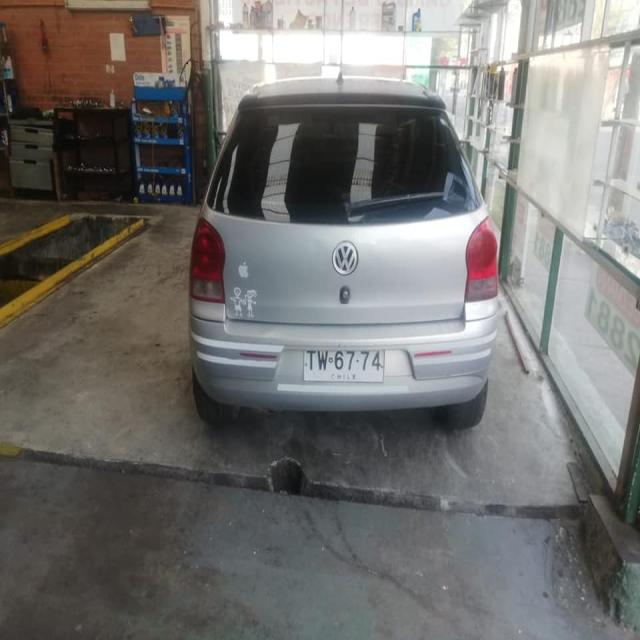patente: (302, 347, 385, 383)
